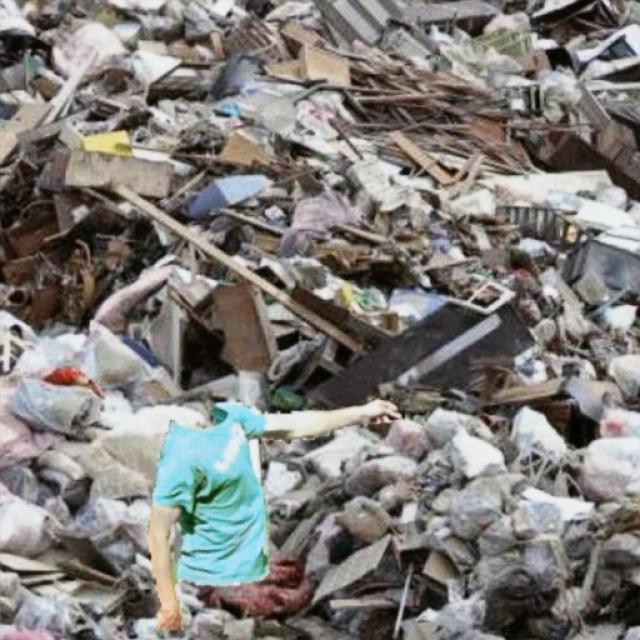Person in Rubble: (148, 398, 404, 628)
